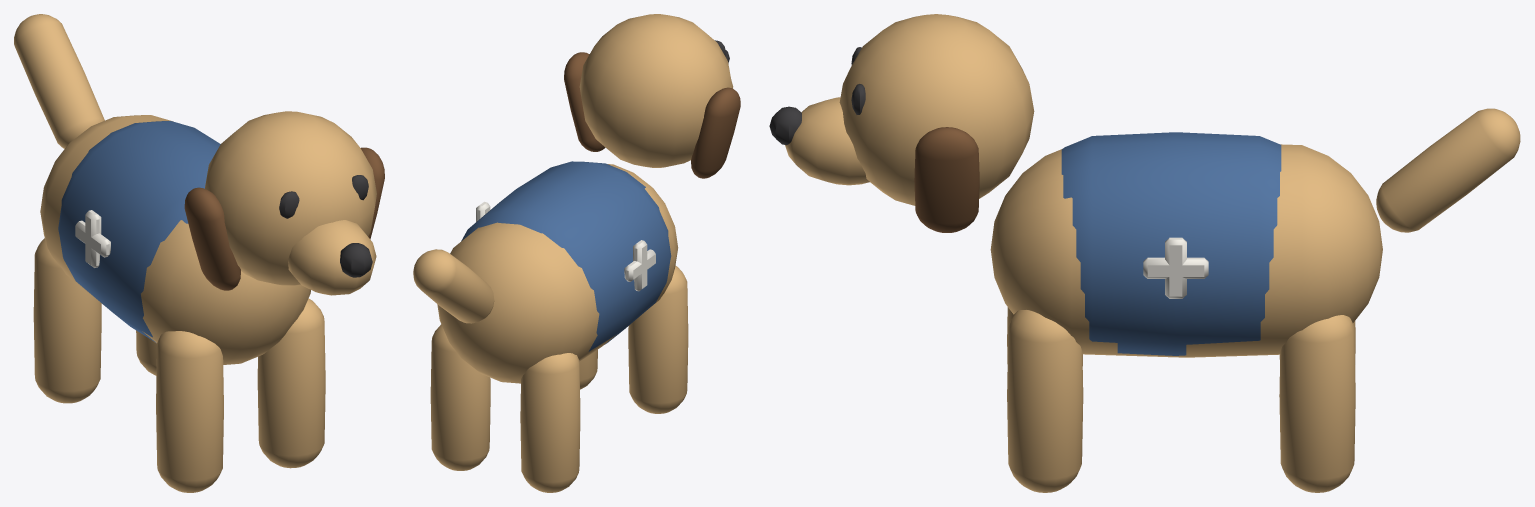
The model's file is therapy_dog.glb.
3 renders of one model, left to right at view 1: azimuth 30°, elevation 25°; view 2: azimuth 150°, elevation 25°; view 3: azimuth 270°, elevation 25°, orthographic. The views are drawn at different scales.
Parts seen in each view (by area): view 1: fur_dog, sign_blue, walnut, shoes, sheet; view 2: fur_dog, sign_blue, walnut, sheet; view 3: fur_dog, sign_blue, walnut, sheet, shoes.
Part boxes in pixels (box(x1,y1,x2,y2)): fur_dog: box(14, 14, 376, 492); sign_blue: box(58, 121, 220, 342); walnut: box(184, 147, 384, 290); shoes: box(279, 175, 372, 277); sheet: box(75, 210, 110, 267); fur_dog: box(413, 14, 733, 492); sign_blue: box(461, 161, 671, 351); walnut: box(564, 52, 740, 178); sheet: box(476, 201, 655, 291); fur_dog: box(785, 14, 1520, 492); sign_blue: box(1061, 132, 1281, 355); walnut: box(914, 127, 979, 232); sheet: box(1143, 237, 1208, 298); shoes: box(769, 47, 865, 145).
Bounding box in the file's own units: 0.2234 × 0.445 × 0.6892.
